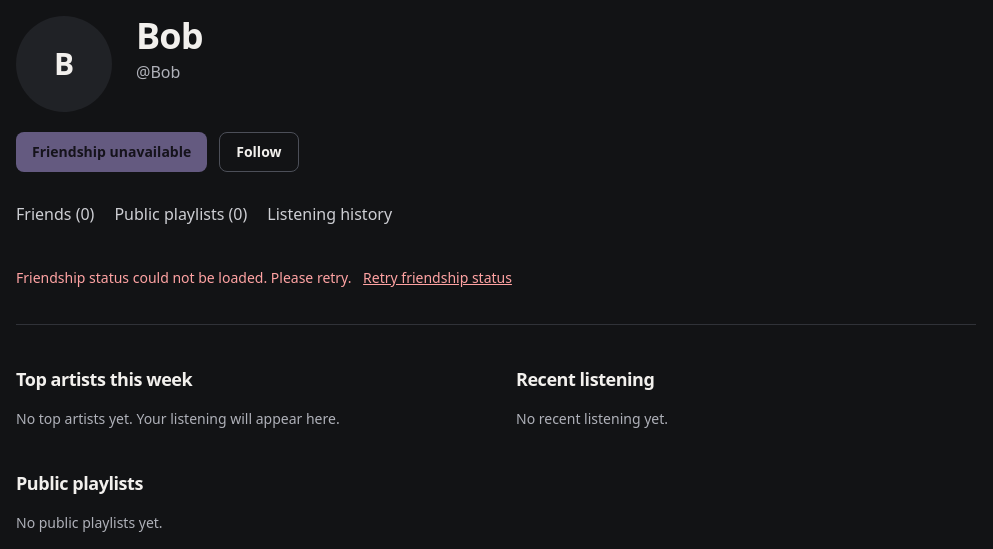
Test: profile friend controls › blocks Add on a failed initial snapshot and supports a visible retry
Check: the button "Add Friend" is not shown
Click the button "Retry friendship status": (438, 278) [355,256,520,300]
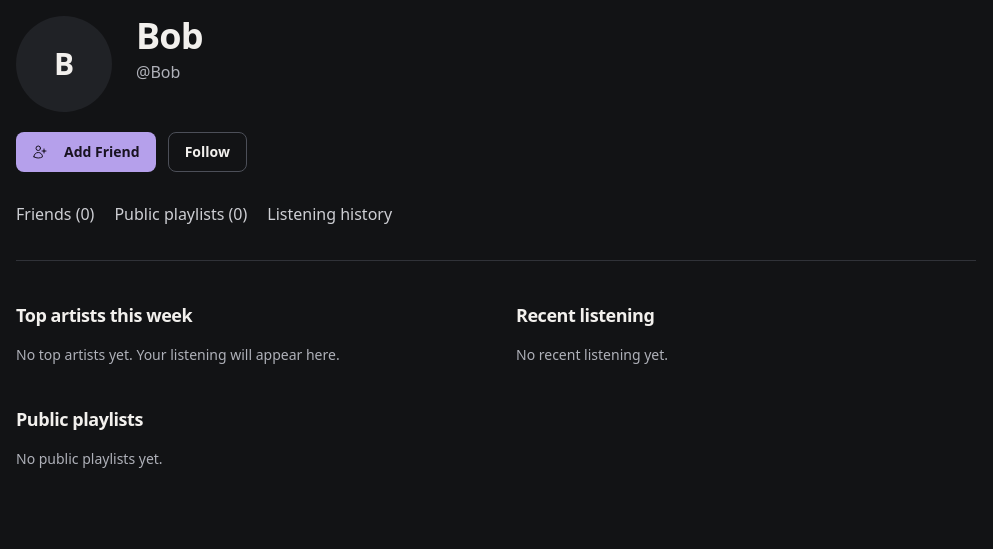
Check: the button "Add Friend" is enabled, box [16,132,156,172]
